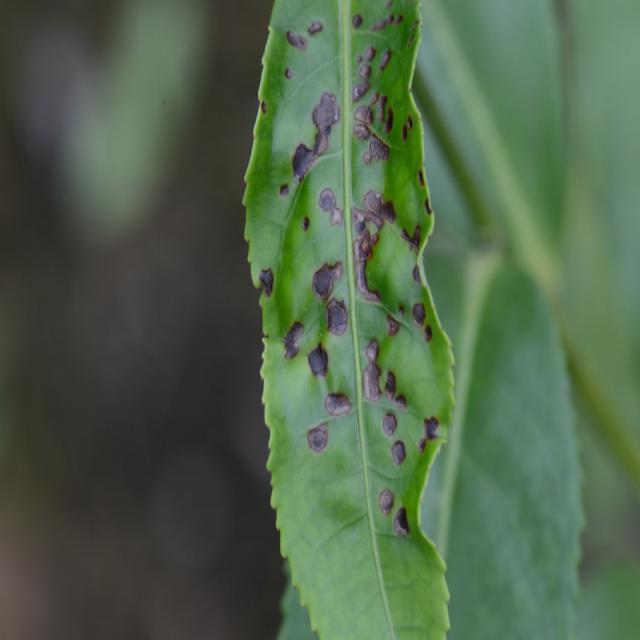Tea red scab: (256, 21, 452, 541)
